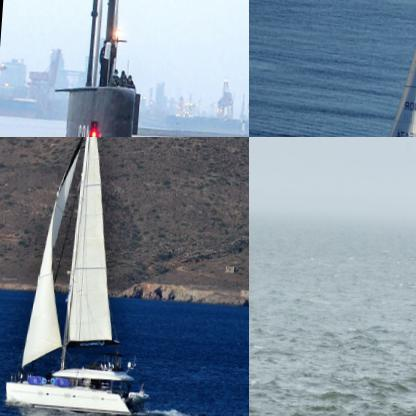Sails Boat: (4, 137, 174, 415), (342, 0, 415, 136)
Submarine: (22, 0, 248, 136)
